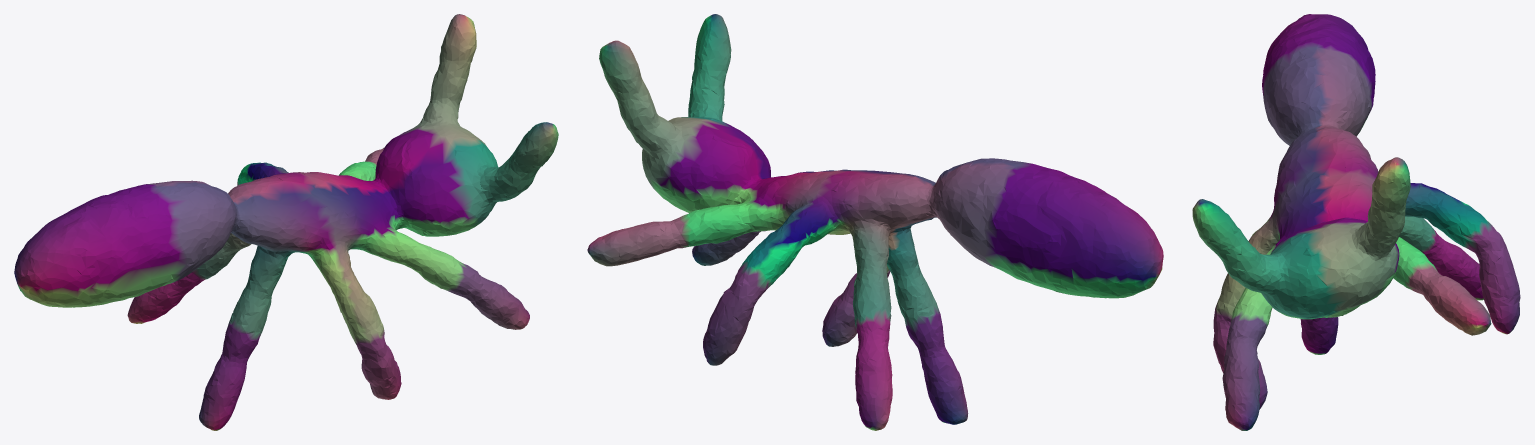
The model's file is ant-2.off.obj.
The picture shows the model from 3 angles, left to right: view 1: azimuth 30°, elevation 25°; view 2: azimuth 150°, elevation 25°; view 3: azimuth 270°, elevation 25°; orthographic projection. The views are drawn at different scales.
Size of the model in its own units: 1.56 by 0.9666 by 0.8398.
